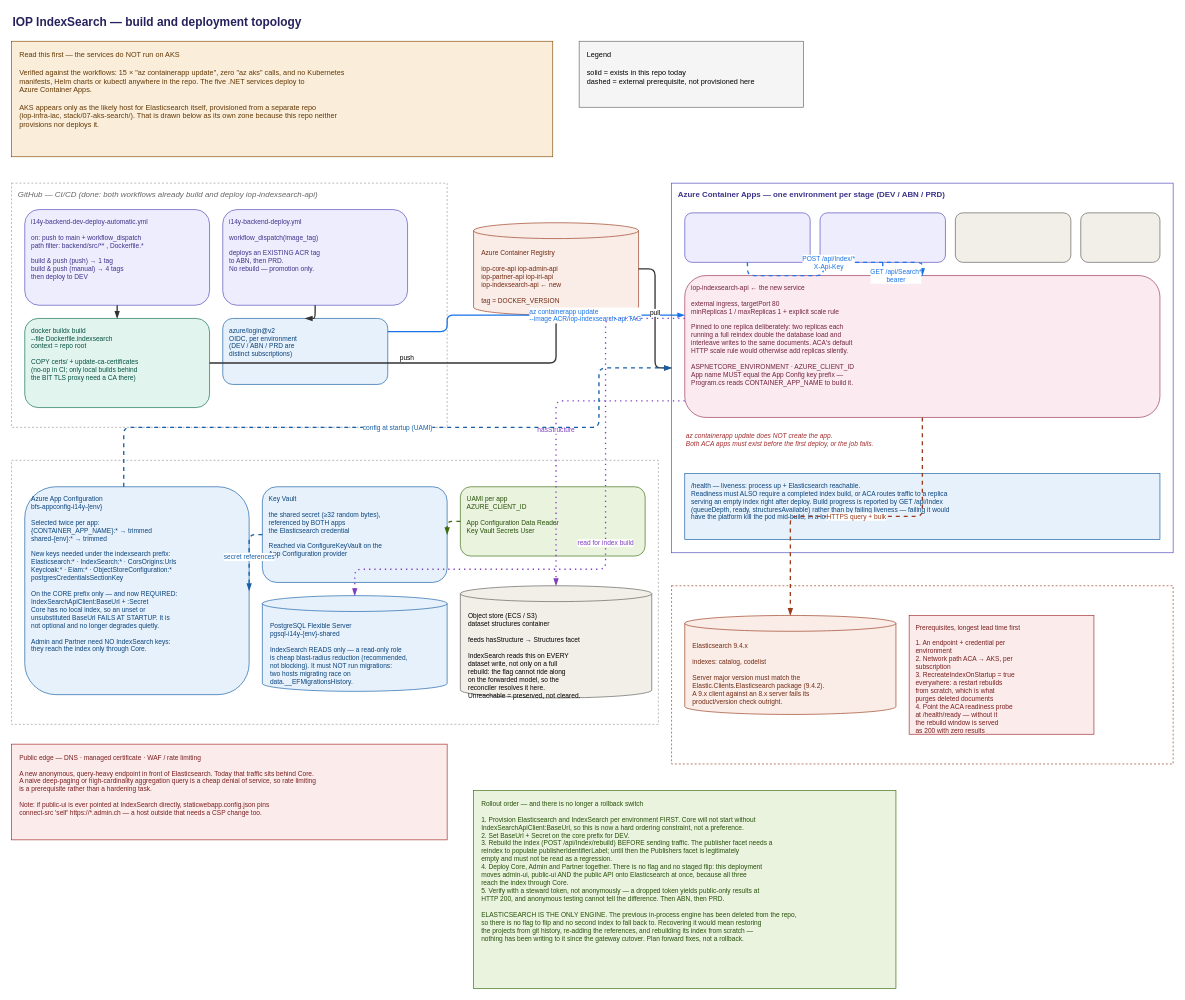
The diagram is 1185 pixels wide and 1000 high, and some of its shapes have lost their labels. Here are the shapes that lost their labels. From the top down, the box of each, then its label:
(684, 212, 810, 262): iop-core-api THE GATEWAY no index of its own
(819, 212, 945, 262): iop-admin-api all search via Core no engine client
(955, 212, 1071, 262): iop-partner-api all search via Core incl. code-list export
(1080, 212, 1160, 262): iop-iri-api
(11, 460, 658, 724): Shared Azure services
(671, 585, 1173, 764): AKS — provisioned OUTSIDE this repo (iop-infra-iac, stack/07-aks-search/)
